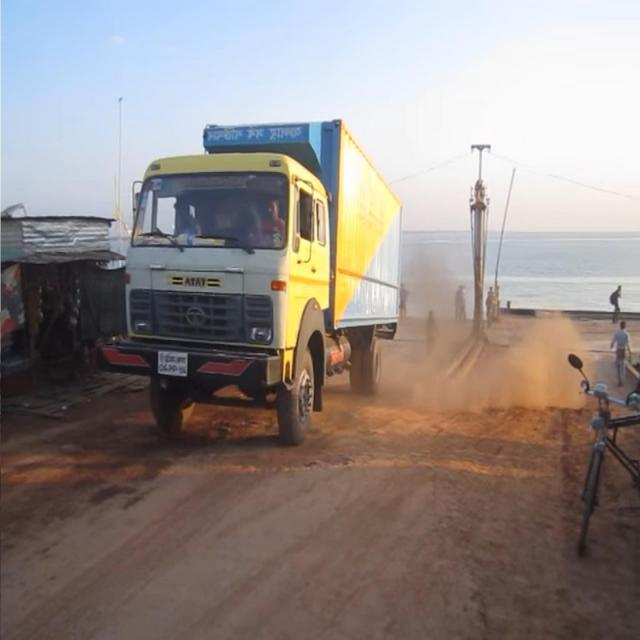truck: (102, 95, 407, 457)
